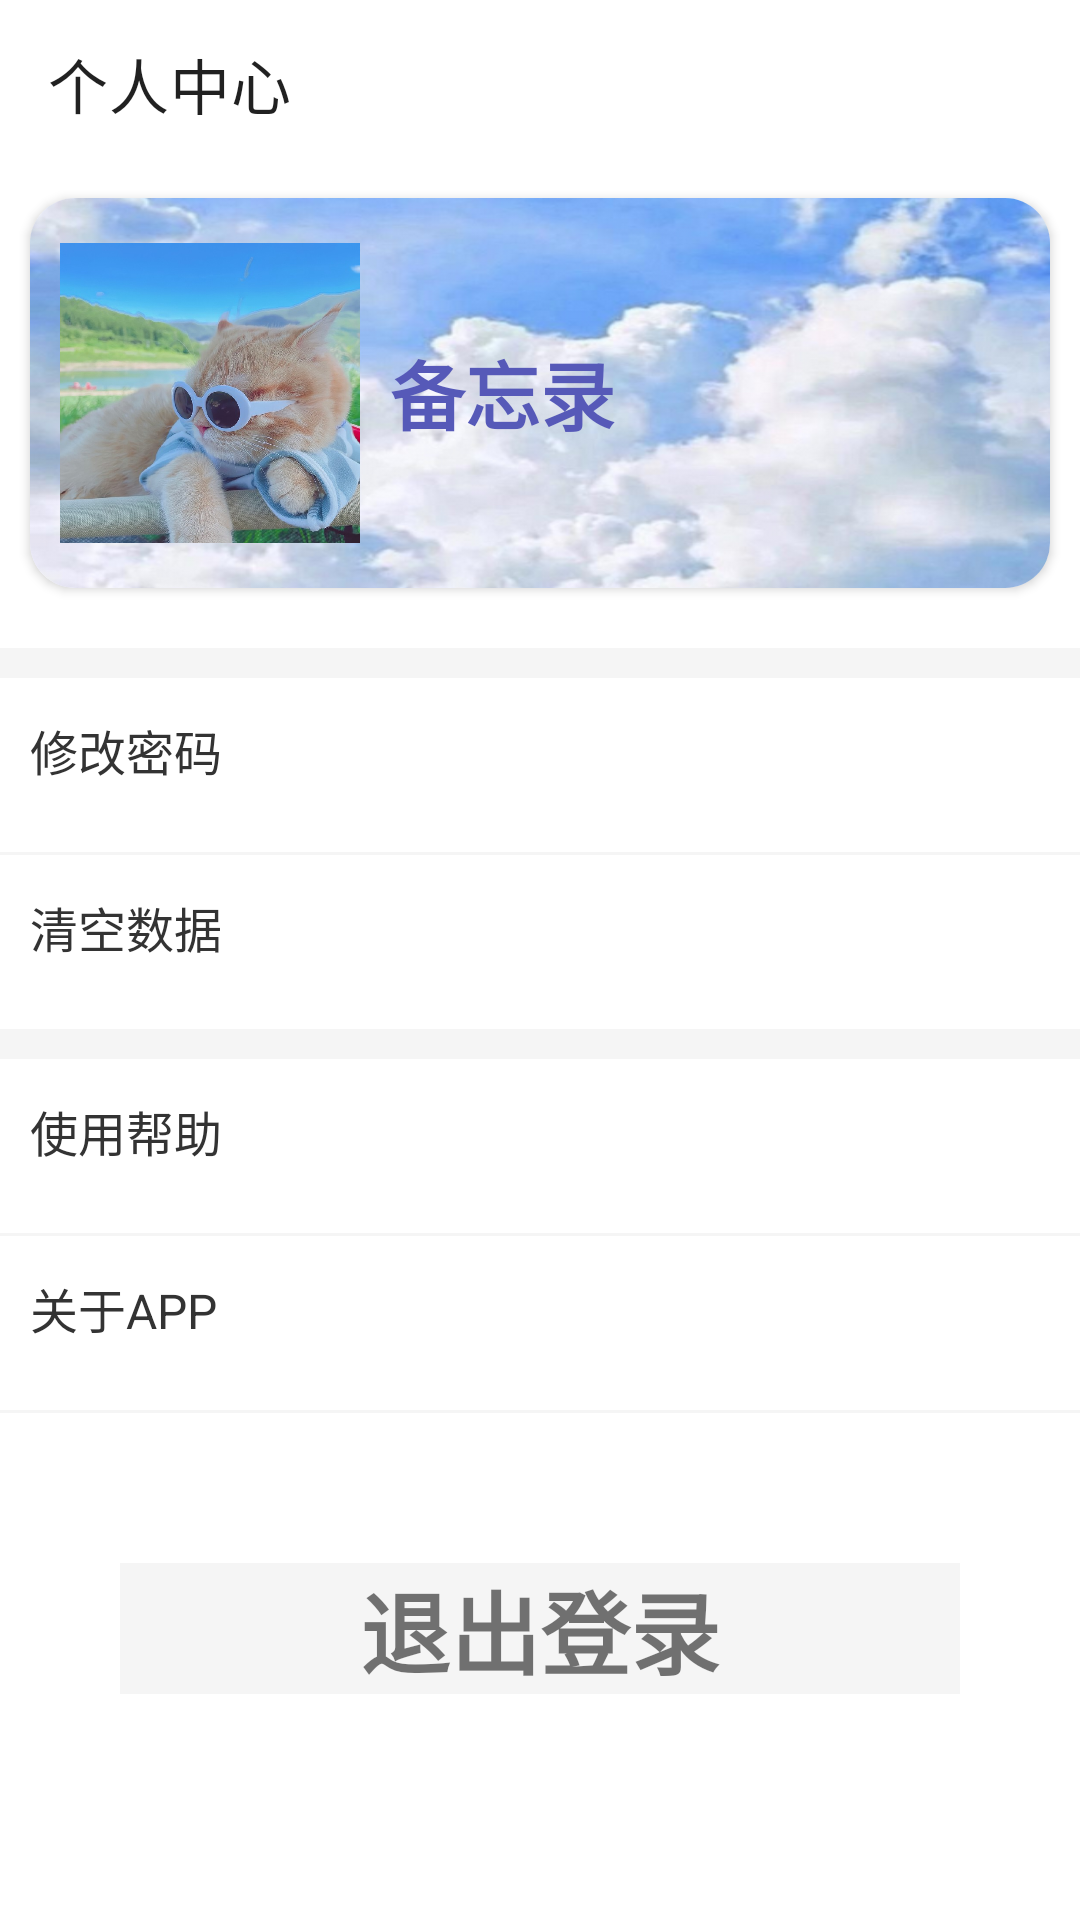

Point at icon controls on the screen. Image size 1080px x 1920px, points as point (x, y).
minehead: point (210, 393)
